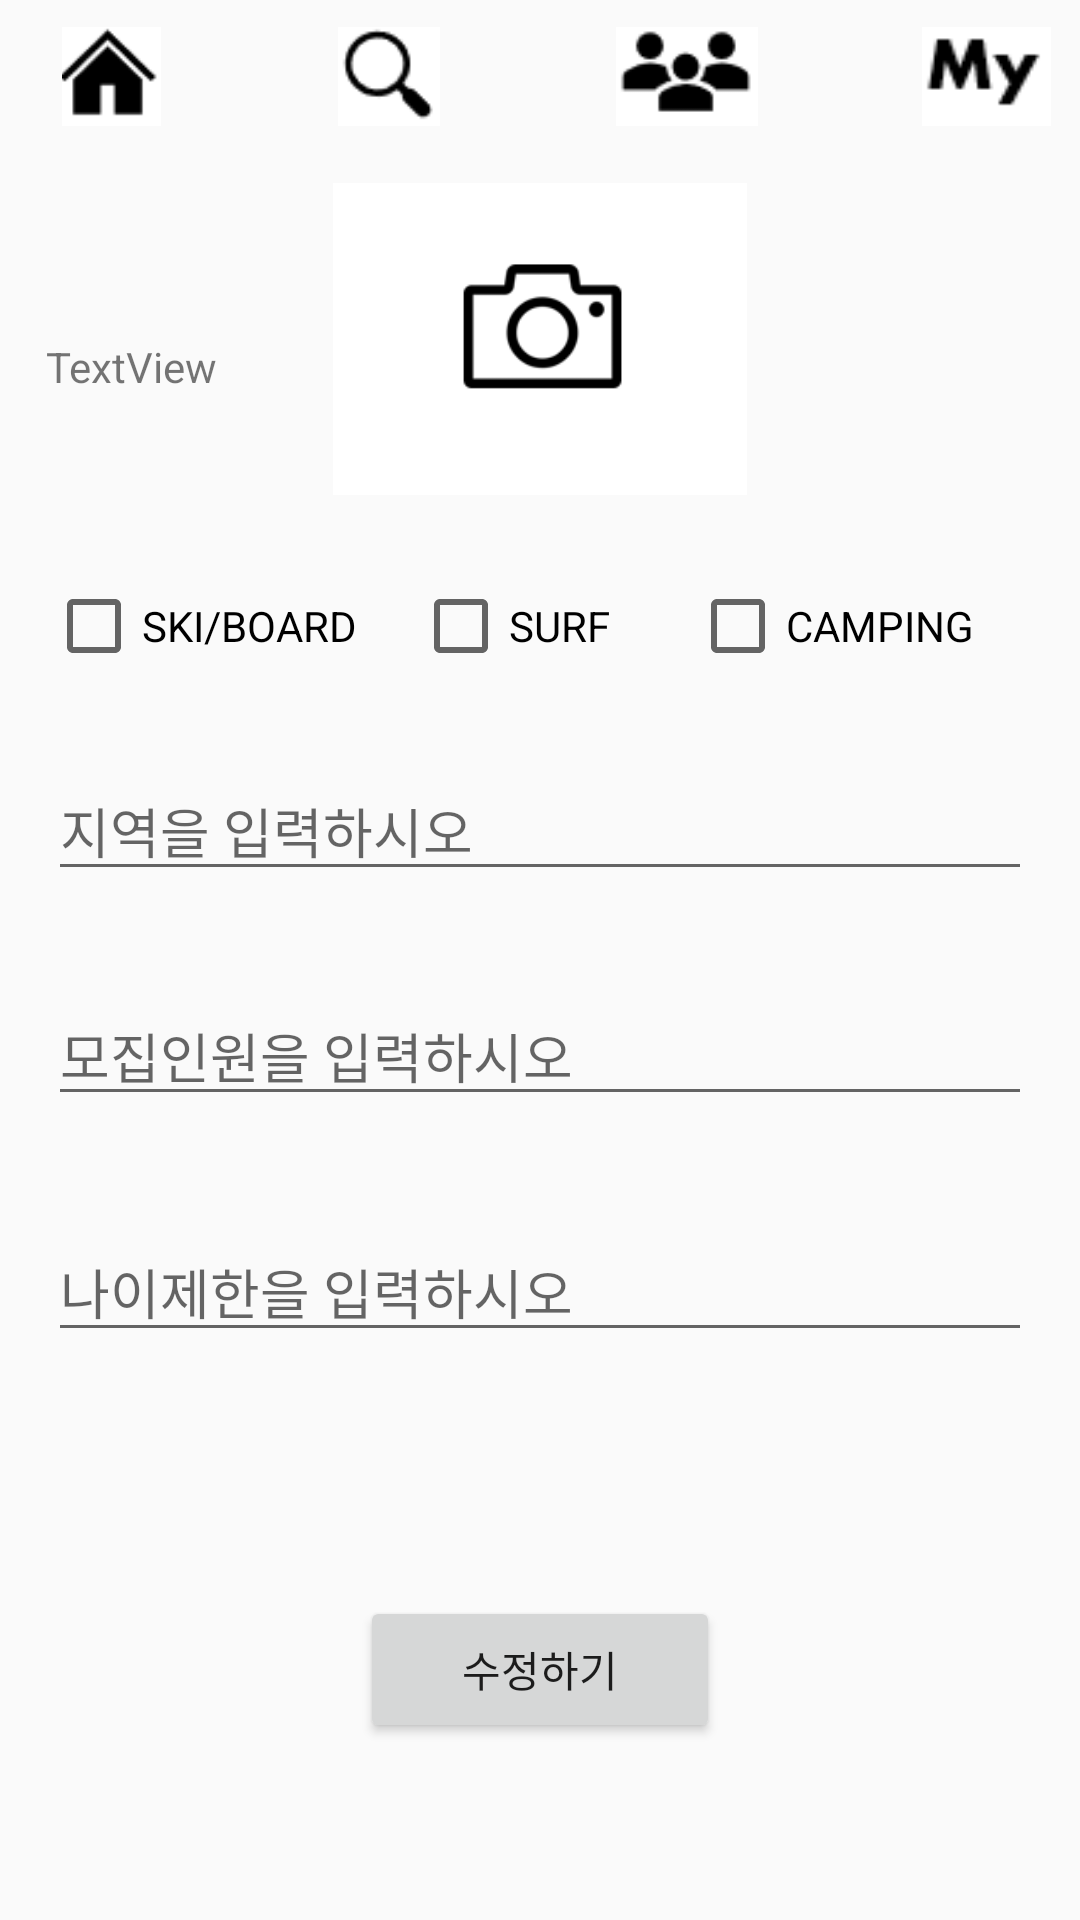

Icons on this 1080w x 1920h Android screen, each with the point to tap as [x,y]:
friends: [686,71]
search: [388,74]
